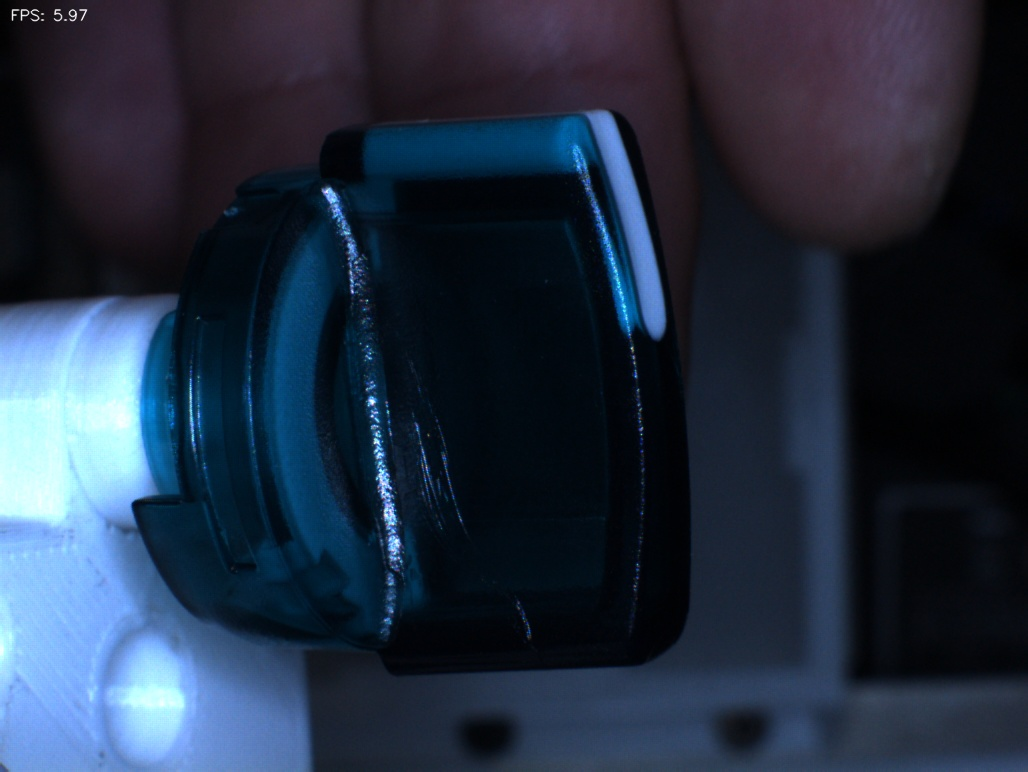Givrage: (383, 332, 538, 650)
